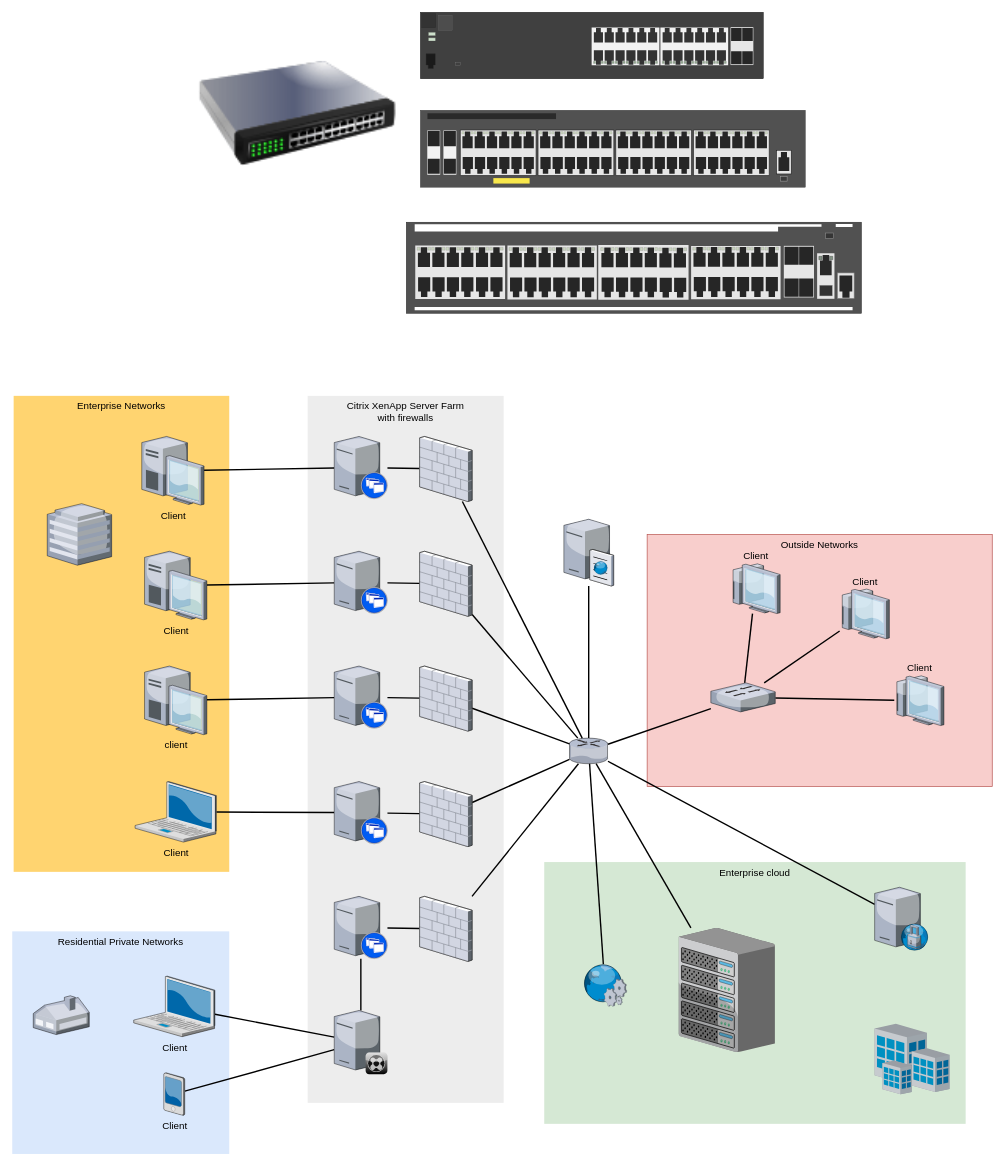
Image size: 1005x1166. Some labels were removed from this diagram. Here are the shapes that lost their labels. From the top down, the centre of each, then its label:
At [588,551]: "Web Server".
At [901,918]: "Secure Server".
At [604,985]: "Web service".
At [726,989]: "DNS".
